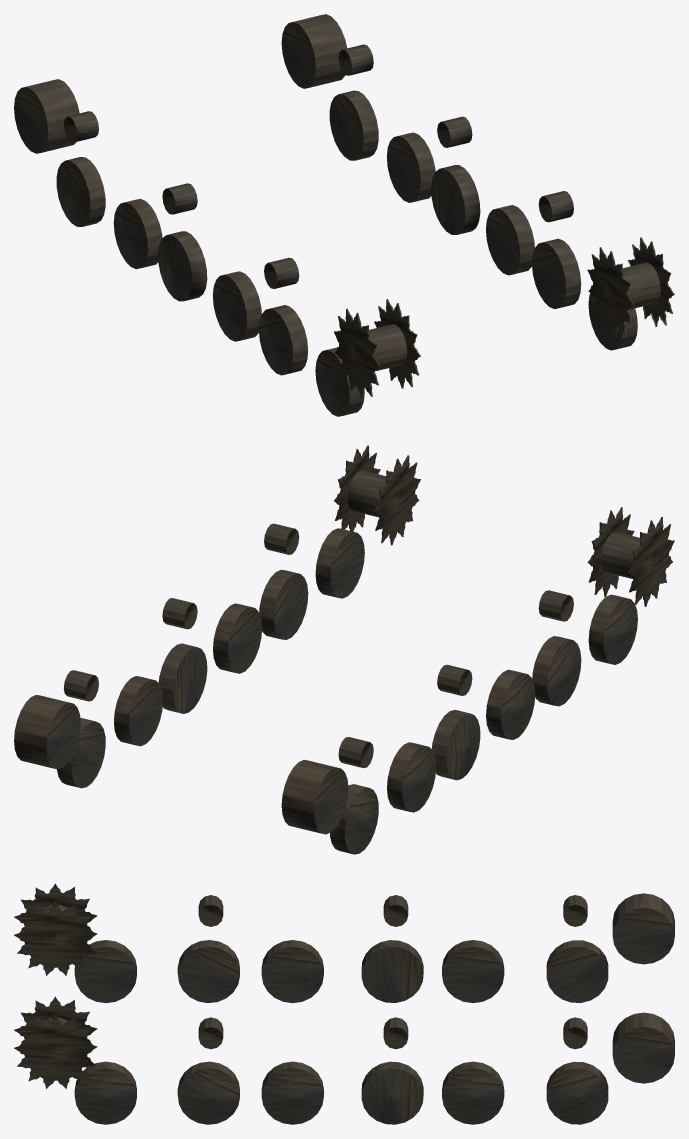
File: sherman_hull_m7.obj
The picture shows the model from 3 angles, top to bottom: view 1: azimuth 30°, elevation 25°; view 2: azimuth 150°, elevation 25°; view 3: azimuth 270°, elevation 25°; orthographic projection. The views are drawn at different scales.
Visible parts, largest first — view 1: sherman_hull_m7; view 2: sherman_hull_m7; view 3: sherman_hull_m7.
Boxes of the visible parts, box(x1,y1,x2,y2) form: sherman_hull_m7: box(14, 14, 674, 416); sherman_hull_m7: box(14, 445, 674, 854); sherman_hull_m7: box(14, 883, 674, 1124).
Bounding box in the file's own units: 2.57 × 1.01 × 5.38.
Materials: 1 (1 with a texture image).
